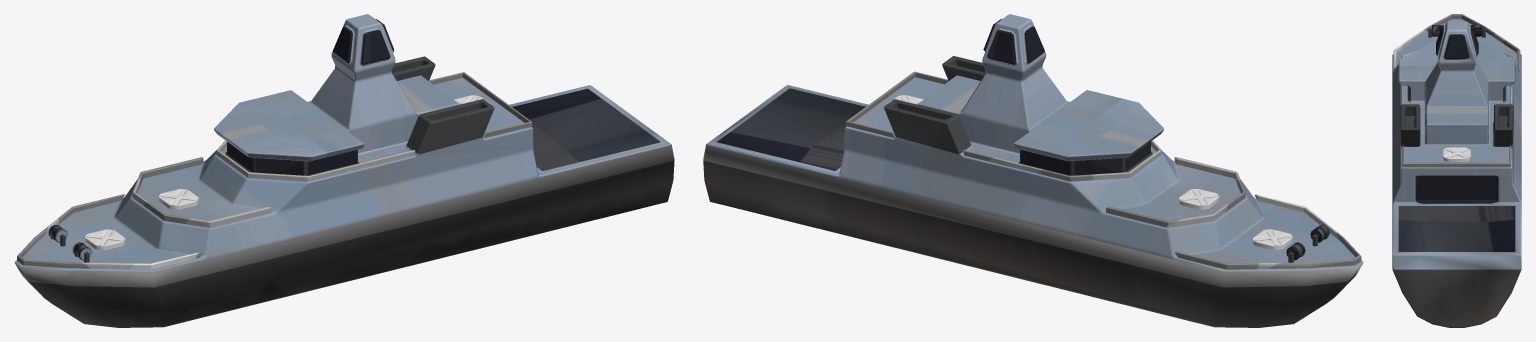
File: MARINE_Boat_groot_06.fbx
The picture shows the model from 3 angles, left to right: view 1: azimuth 30°, elevation 25°; view 2: azimuth 150°, elevation 25°; view 3: azimuth 270°, elevation 25°; orthographic projection. The views are drawn at different scales.
Visible parts, largest first — view 1: Groote_Boot, bovenreling, beneden reling, mid reling, wapen_placement.007, wapen_placement.005, Cylinder.053; view 2: Groote_Boot, bovenreling, beneden reling, mid reling, wapen_placement.005, wapen_placement.007, Cylinder.053; view 3: Groote_Boot, bovenreling, beneden reling, wapen_placement.008, Cylinder.053.
Boxes of the visible parts, box(x1,y1,x2,y2) form: Groote_Boot: box(14, 14, 674, 327); bovenreling: box(216, 72, 532, 181); beneden reling: box(17, 194, 201, 269); mid reling: box(132, 157, 271, 227); wapen_placement.007: box(85, 229, 125, 250); wapen_placement.005: box(159, 189, 198, 209); Cylinder.053: box(48, 225, 91, 262); Groote_Boot: box(703, 14, 1363, 327); bovenreling: box(846, 71, 1161, 181); beneden reling: box(1174, 194, 1361, 269); mid reling: box(1106, 157, 1245, 227); wapen_placement.005: box(1179, 189, 1219, 209); wapen_placement.007: box(1253, 229, 1292, 250); Cylinder.053: box(1286, 224, 1329, 262); Groote_Boot: box(1392, 19, 1521, 327); bovenreling: box(1401, 85, 1512, 167); beneden reling: box(1393, 14, 1520, 71); wapen_placement.008: box(1443, 147, 1470, 161); Cylinder.053: box(1428, 25, 1485, 37).
Bounding box in the file's own units: 2002 × 745 × 450.
